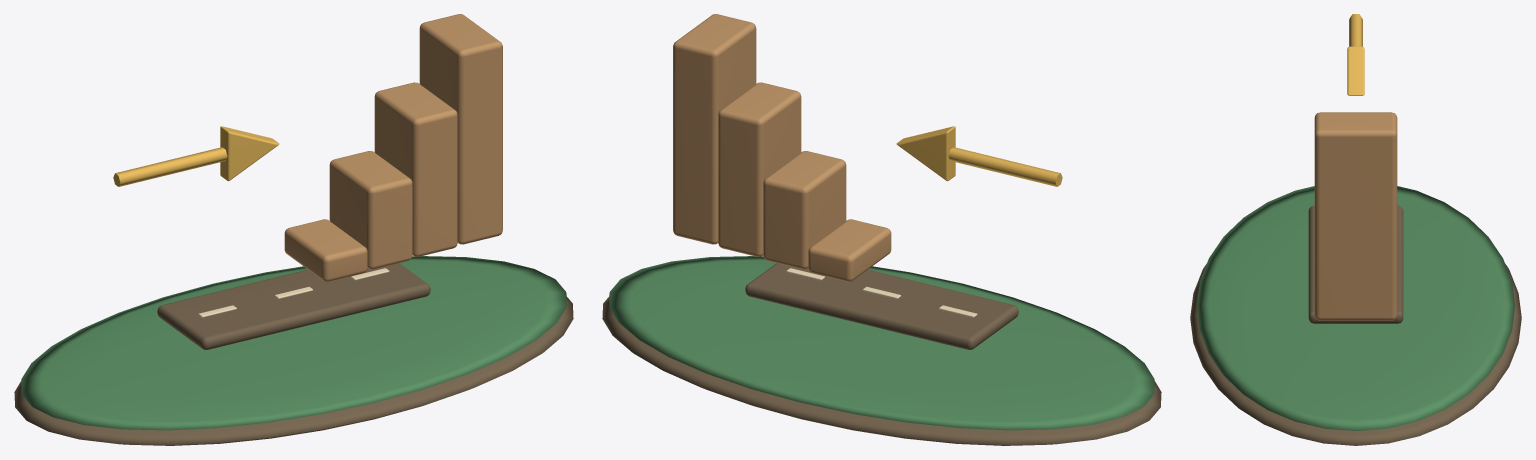
Rendered from complete-second-passing-process.glb.
The picture shows the model from 3 angles, left to right: view 1: azimuth 30°, elevation 25°; view 2: azimuth 150°, elevation 25°; view 3: azimuth 270°, elevation 25°; orthographic projection. The views are drawn at different scales.
Parts seen in each view (by area): view 1: complete-second-passing-process_surface_01, complete-second-passing-process_surface_03, complete-second-passing-process_surface_00, complete-second-passing-process_surface_02, complete-second-passing-process_surface_04; view 2: complete-second-passing-process_surface_01, complete-second-passing-process_surface_03, complete-second-passing-process_surface_00, complete-second-passing-process_surface_02, complete-second-passing-process_surface_04; view 3: complete-second-passing-process_surface_01, complete-second-passing-process_surface_03, complete-second-passing-process_surface_00, complete-second-passing-process_surface_02.
Part boxes in pixels (box(x1,y1,x2,y2)): complete-second-passing-process_surface_01: box(21, 256, 566, 430); complete-second-passing-process_surface_03: box(284, 14, 502, 281); complete-second-passing-process_surface_00: box(14, 263, 573, 445); complete-second-passing-process_surface_02: box(113, 126, 279, 186); complete-second-passing-process_surface_04: box(198, 268, 389, 317); complete-second-passing-process_surface_01: box(609, 256, 1154, 430); complete-second-passing-process_surface_03: box(673, 14, 891, 281); complete-second-passing-process_surface_00: box(602, 263, 1161, 445); complete-second-passing-process_surface_02: box(896, 126, 1062, 186); complete-second-passing-process_surface_04: box(786, 268, 977, 317); complete-second-passing-process_surface_01: box(1197, 186, 1514, 430); complete-second-passing-process_surface_03: box(1314, 112, 1397, 320); complete-second-passing-process_surface_00: box(1190, 205, 1521, 445); complete-second-passing-process_surface_02: box(1347, 14, 1364, 95).
Bounding box in the file's own units: 4.56 × 2.43 × 2.5.
